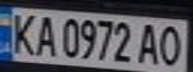0: (57, 15, 81, 60)
2: (112, 18, 136, 64)
7: (93, 17, 115, 62)
9: (78, 16, 96, 60)
A: (30, 11, 60, 57), (136, 20, 163, 65)
K: (3, 10, 39, 56)
O: (154, 21, 187, 66)
